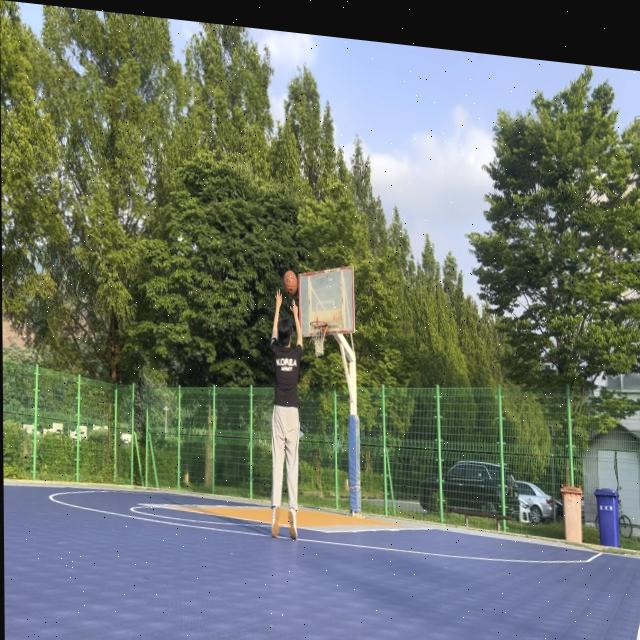basketball: (282, 268, 298, 298)
hoop: (310, 319, 329, 358)
